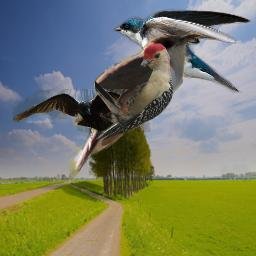Crow: (13, 89, 158, 139)
Cuckoo: (69, 31, 201, 188)
Swallow: (113, 8, 251, 93)
Woodpecker: (95, 43, 173, 146)
